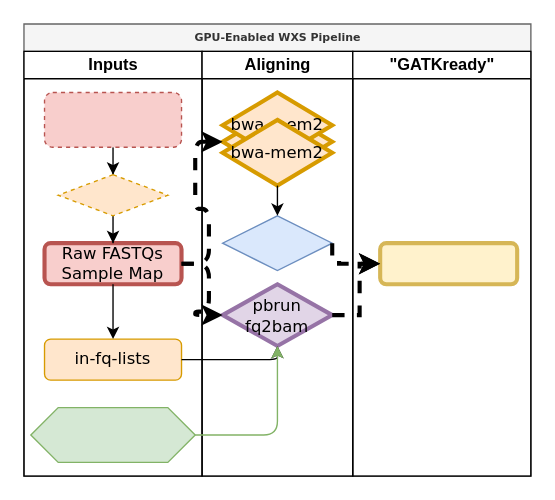
Image size: 555x500. Some labels were removed from this diagram. The shapes that lost their labels are listed below. From the top down, each one's centre as x and y in pixels, then its label:
At point (112, 119): "Raw CRAMs Sample Map Original FASTA".
At point (112, 194): "Stageincram.bash".
At point (276, 242): "MarkDuplicates".
At point (448, 263): "GATKready.cram".
At point (112, 434): "Reference FASTA".
